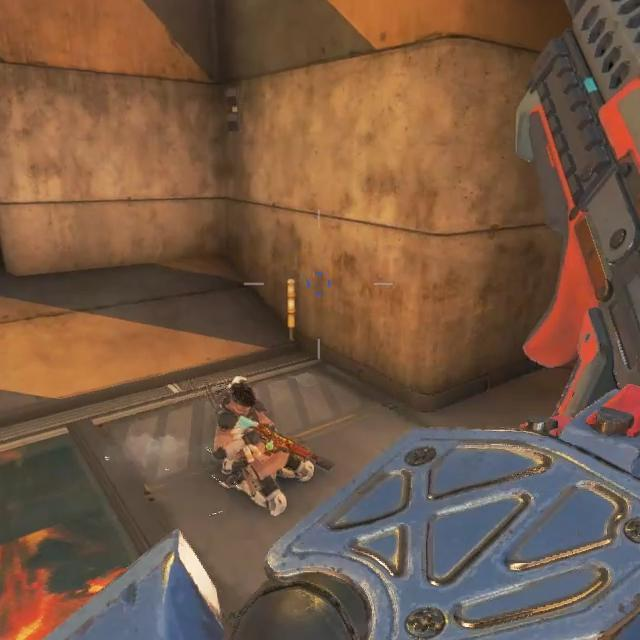avatar: (211, 376, 315, 519)
